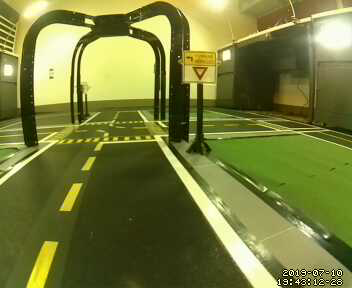Turn Yield: (183, 49, 216, 85)
